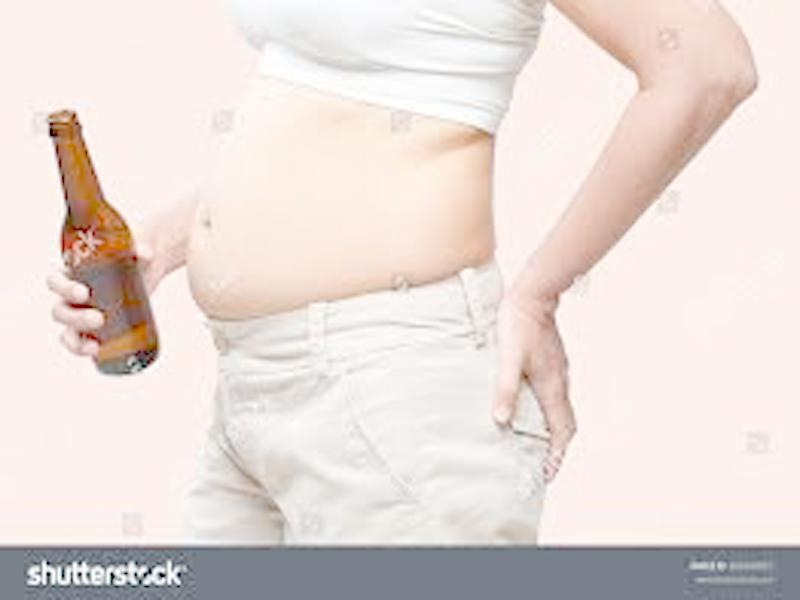Beer: (46, 112, 165, 378)
